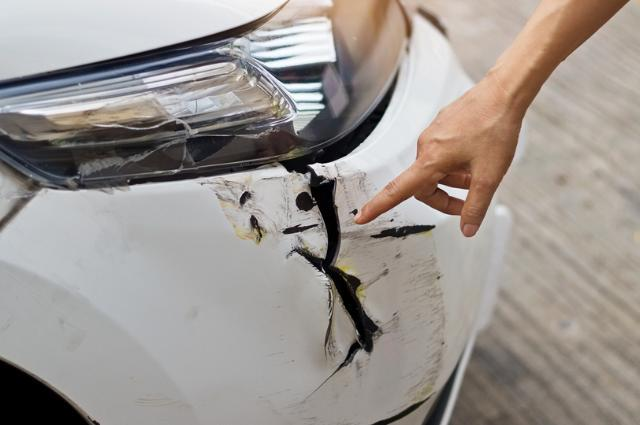Bumper: (194, 163, 415, 400)
Light: (46, 79, 262, 174)
